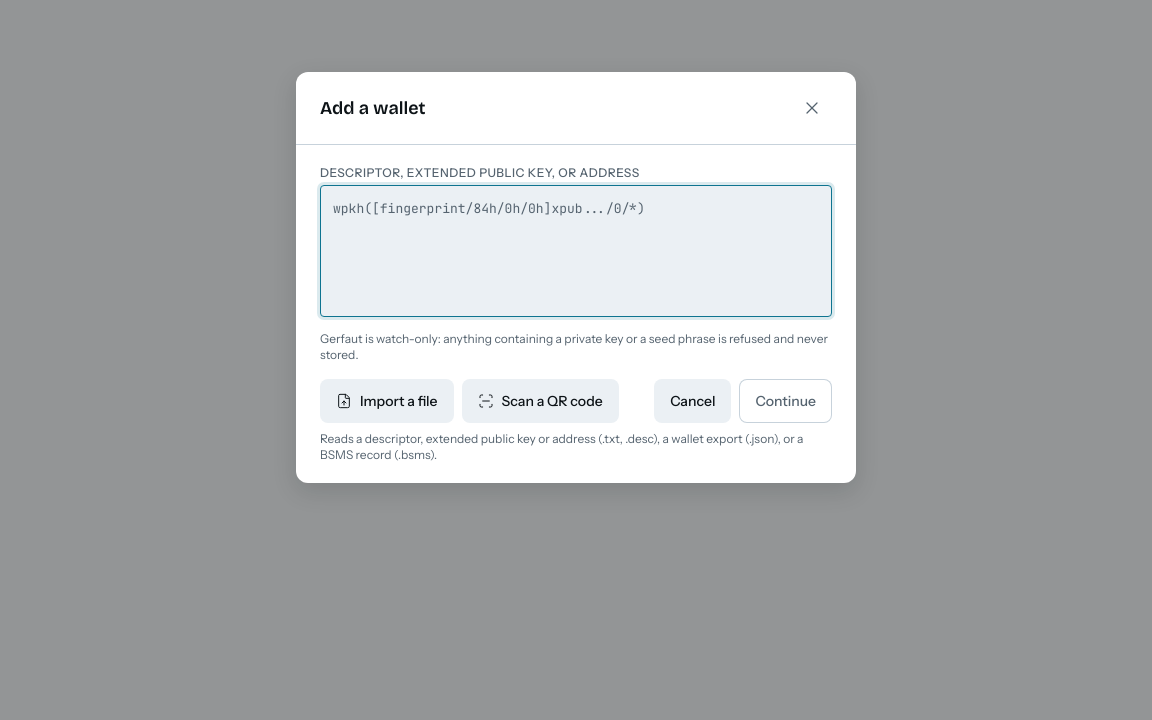
Scenario: AddWalletModal › shows the first address of the network picked
The width and height of the screenshot is (1152, 720).
Type "tpubDDnGNapGEY6..." into the text box labelled "Descriptor, extended public key, or address" at (576, 251), box [320,185,832,317]
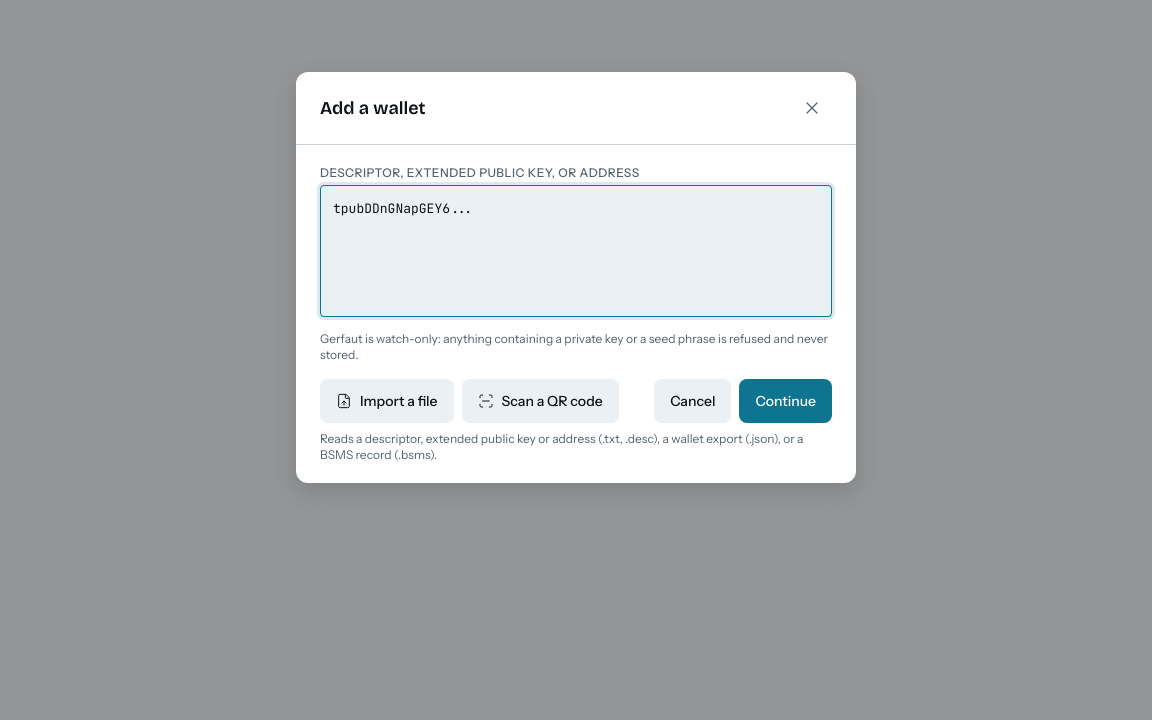
Click the button "Continue" at (786, 401), box [740,379,832,423]
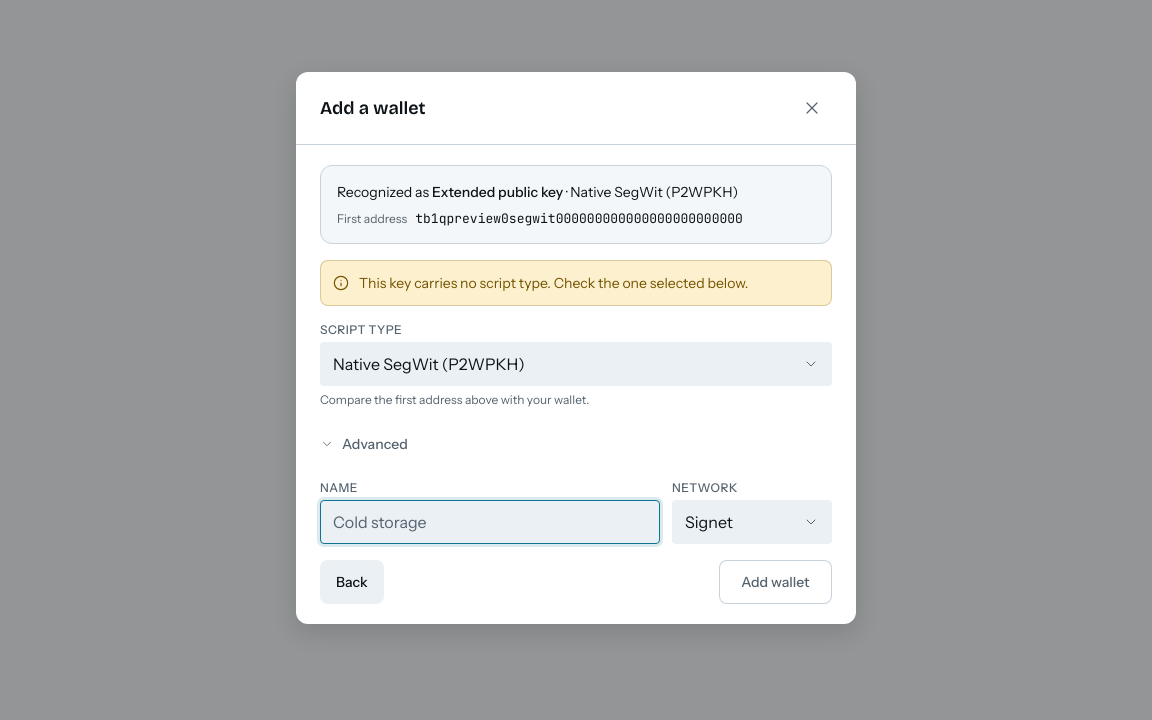
Now the text "Recognized as Extended public key · Native SegWit (P2WPKH)" is shown, box [337,183,738,201]
Now the text with test id "preview-address" shows "tb1q", box [415,210,743,227]
Click the dropdown named "Network" at (752, 522), box [672,500,832,544]
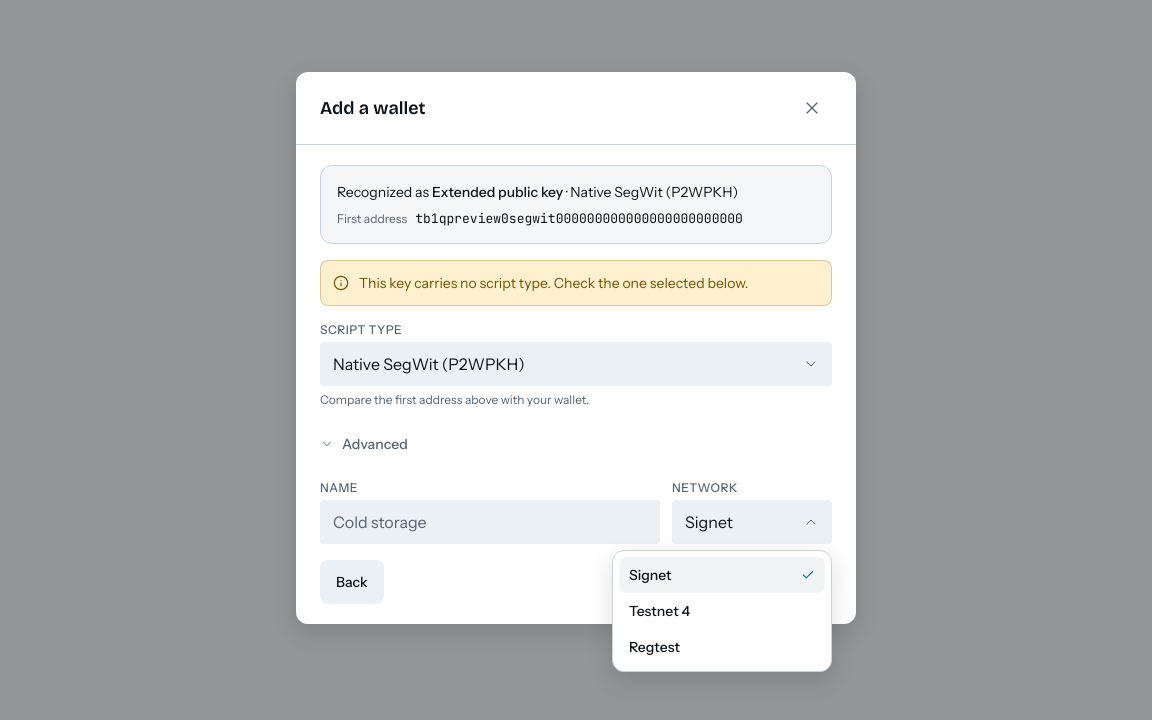
Click the option "Regtest" at (654, 647), box [629,638,680,656]
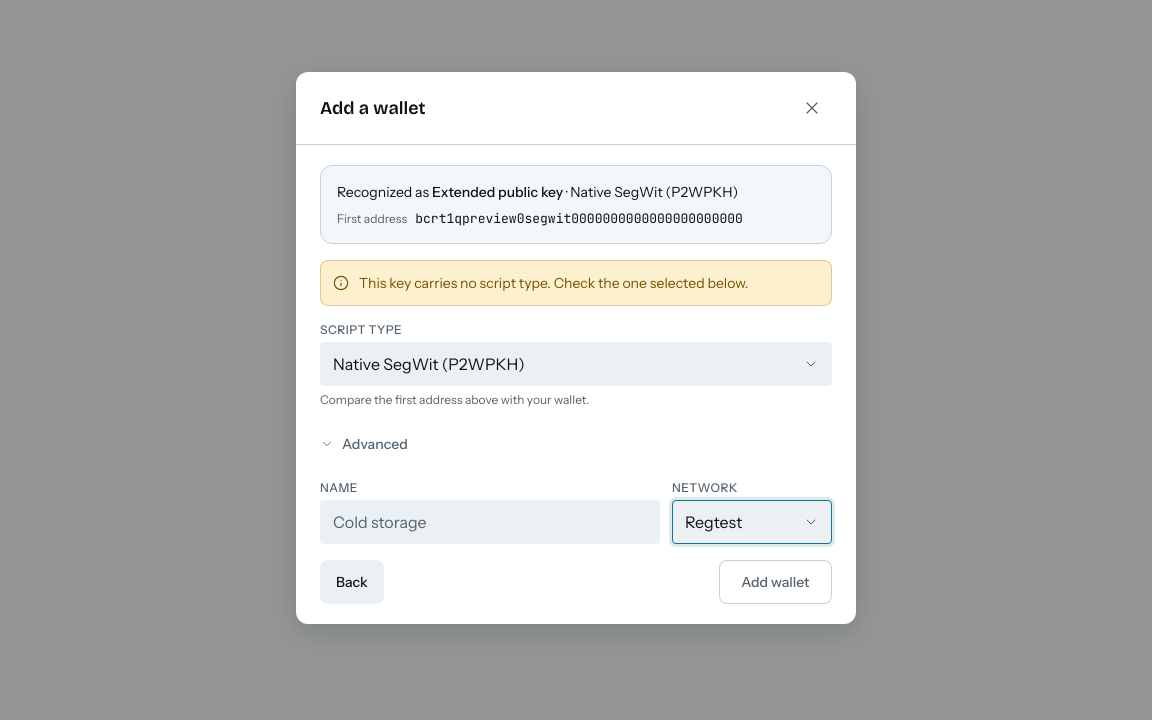
Now the text "bcrt1qpreview0segwit0000000000000000000000" is shown, box [415,210,743,227]
Now the dropdown named "Network" reads "Regtest", box [672,500,832,544]
